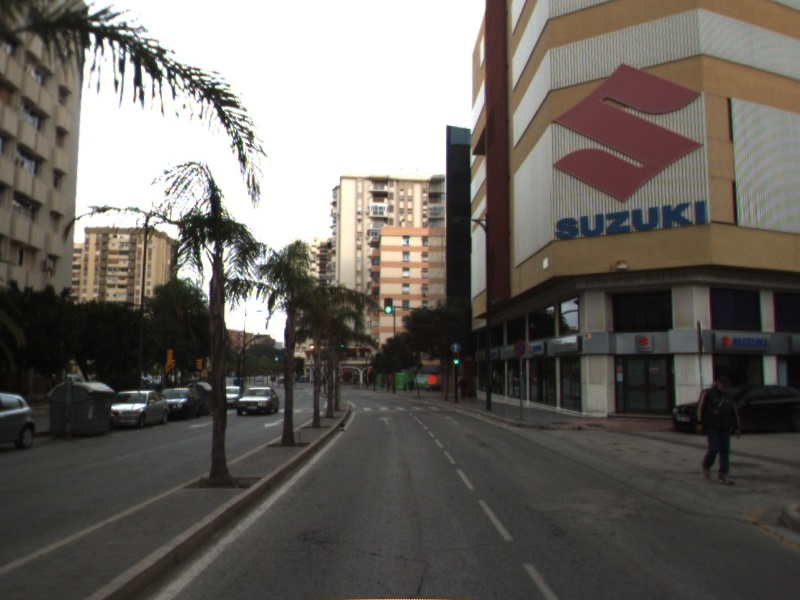STRAIGHT: (441, 413, 464, 427), (375, 413, 396, 427)
